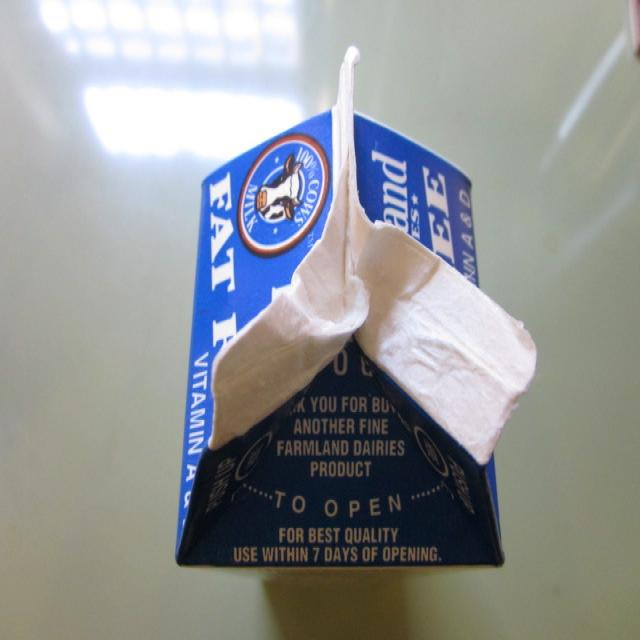cardboard: (156, 44, 538, 586)
